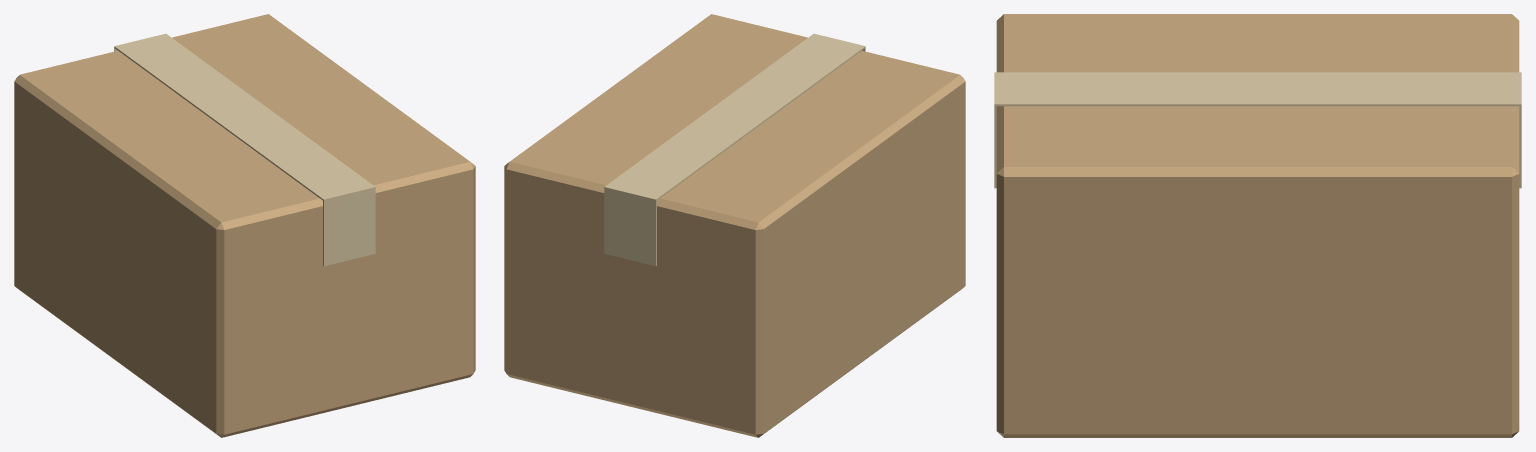
3 views of the same model, side by side, from view 1: azimuth 30°, elevation 25°; view 2: azimuth 150°, elevation 25°; view 3: azimuth 270°, elevation 25° (orthographic). The views are drawn at different scales.
Parts seen in each view (by area): view 1: box_80; view 2: box_80; view 3: box_80.
Boxes of the visible parts, x1,y1,x2,y2 form: box_80: (14, 14, 475, 437); box_80: (504, 14, 965, 437); box_80: (994, 14, 1521, 437).
Size of the model in its own units: 0.25 by 0.2 by 0.35.
